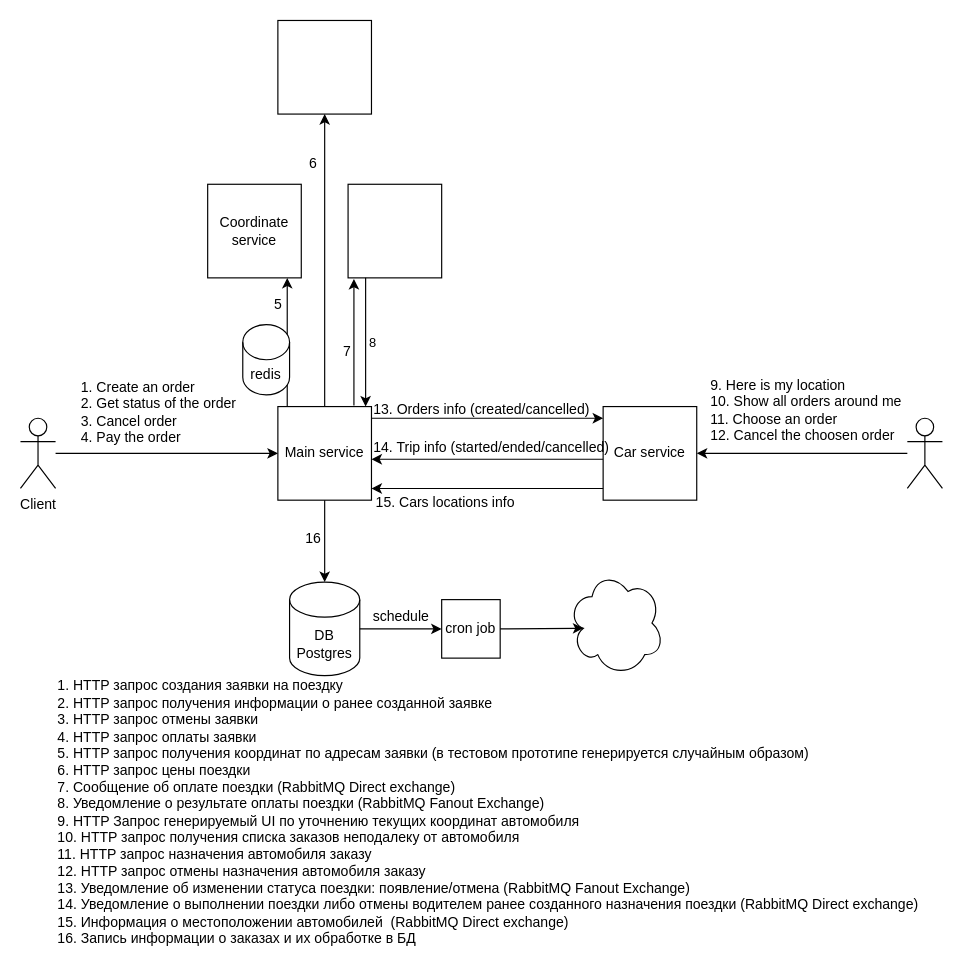
The diagram is 965 pixels wide and 973 high, and some of its shapes have lost their labels. The centre of each missing label's shape, as x and y in pixels:
Driver: (924,452)
Pay service: (394,230)
Price service: (324,66)
S3: (615,622)
